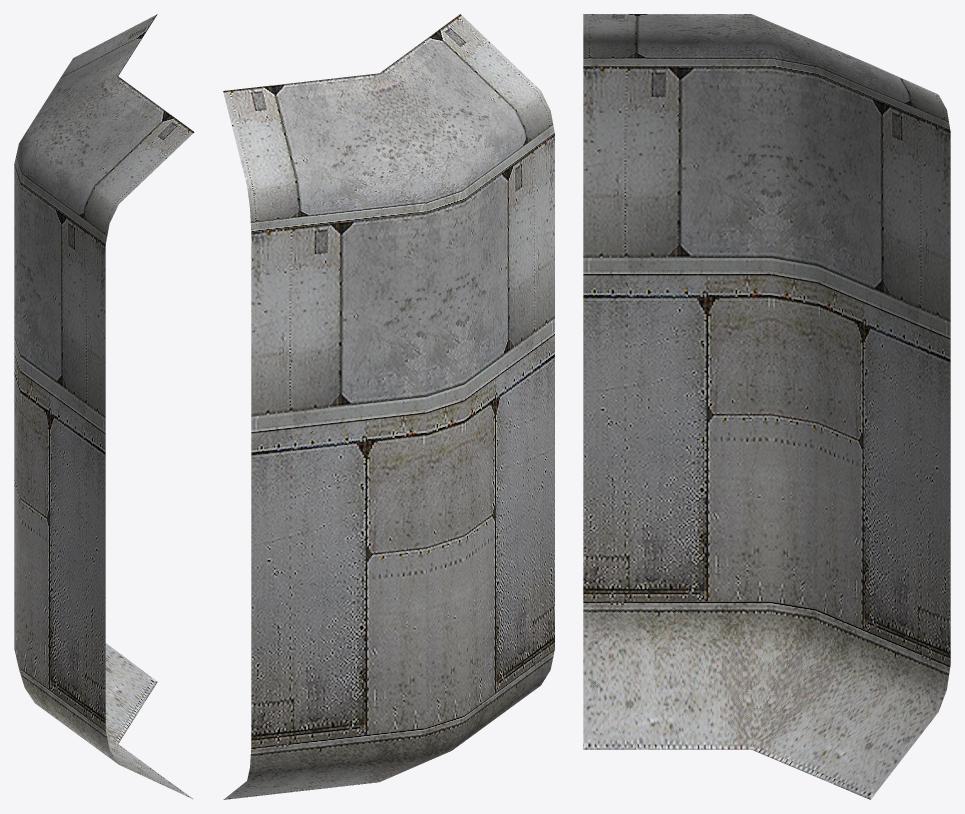
Rendered from Wall_F_Big4mts_07.fbx.
3 renders of one model, left to right at view 1: azimuth 30°, elevation 25°; view 2: azimuth 150°, elevation 25°; view 3: azimuth 270°, elevation 25°, orthographic. The views are drawn at different scales.
Visible parts, largest first — view 1: Wall_F_Big4mts_07; view 2: Wall_F_Big4mts_07; view 3: Wall_F_Big4mts_07.
Part boxes in pixels (bbox=[...]): Wall_F_Big4mts_07: bbox=[14, 14, 194, 799]; Wall_F_Big4mts_07: bbox=[223, 14, 554, 799]; Wall_F_Big4mts_07: bbox=[583, 14, 950, 799].
Bounding box in the file's own units: 286 × 1000 × 452.
